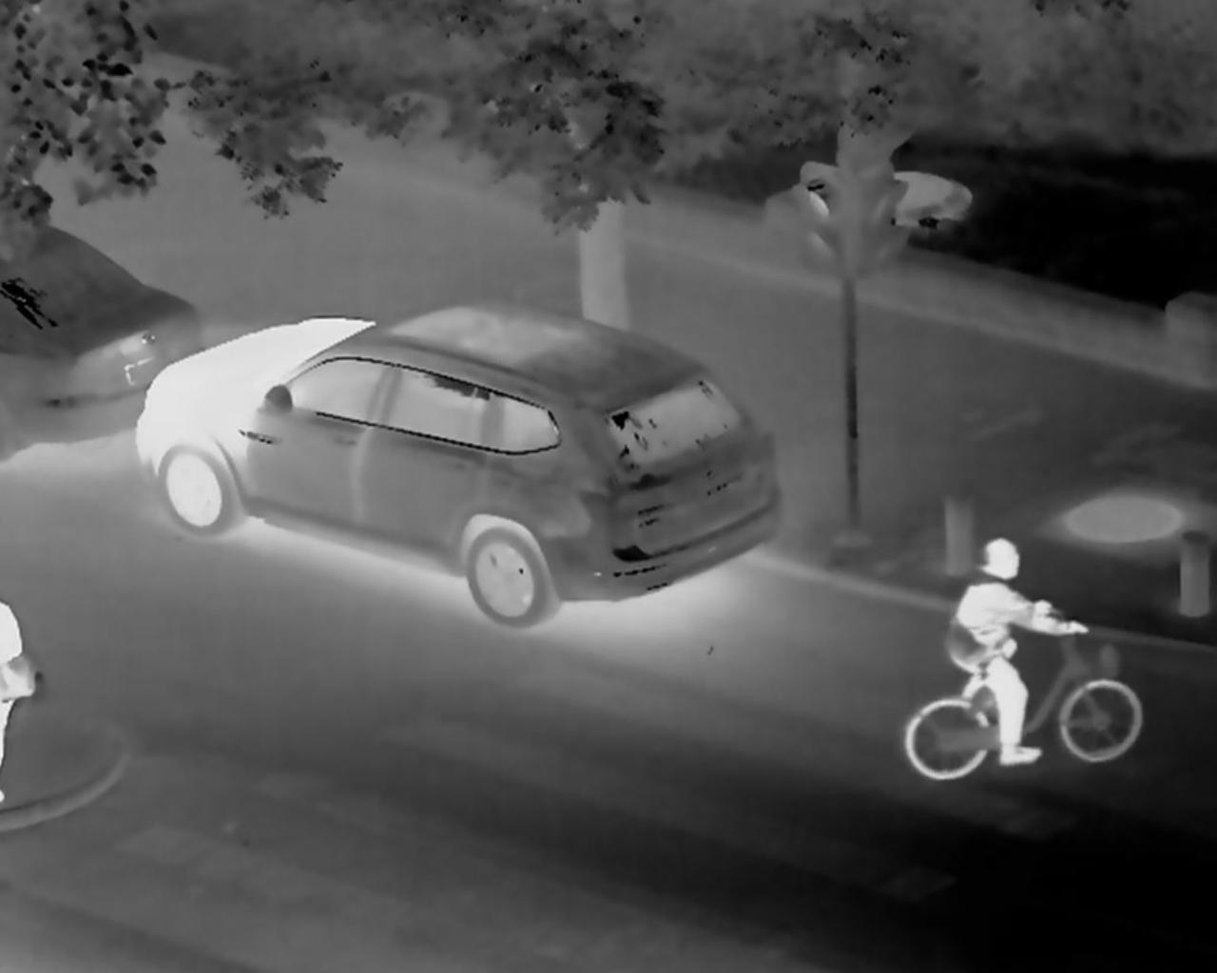person: (929, 518, 1080, 779)
